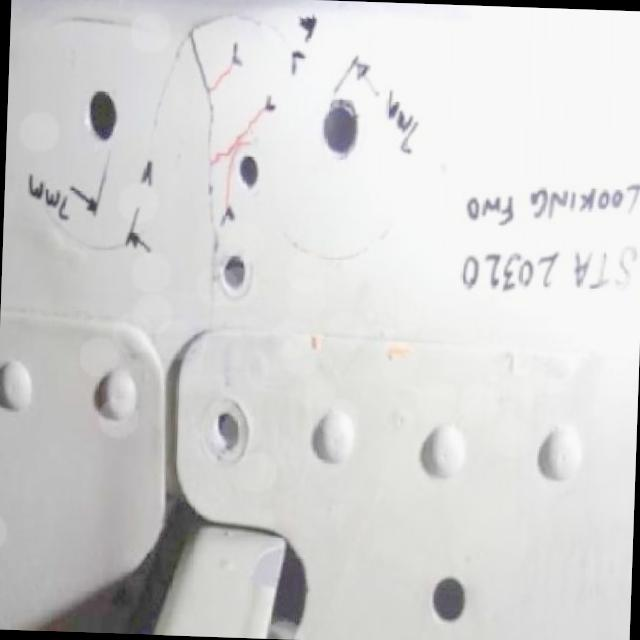crack: (179, 36, 224, 326)
